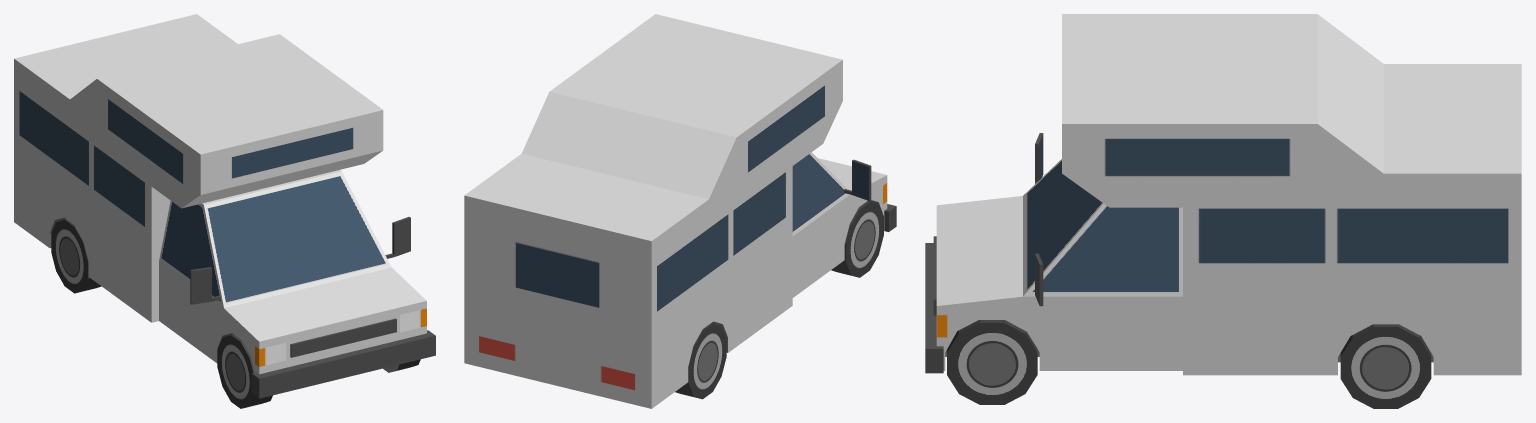
Rendered from MotorHome.fbx.
The picture shows the model from 3 angles, left to right: view 1: azimuth 30°, elevation 25°; view 2: azimuth 150°, elevation 25°; view 3: azimuth 270°, elevation 25°; orthographic projection. The views are drawn at different scales.
Visible parts, largest first — view 1: MotorHome; view 2: MotorHome; view 3: MotorHome.
Boxes of the visible parts, x1=… form: MotorHome: x1=14, y1=14, x2=435, y2=408; MotorHome: x1=464, y1=14, x2=896, y2=408; MotorHome: x1=925, y1=14, x2=1521, y2=408.
Bounding box in the file's own units: 283 × 285 × 540.
